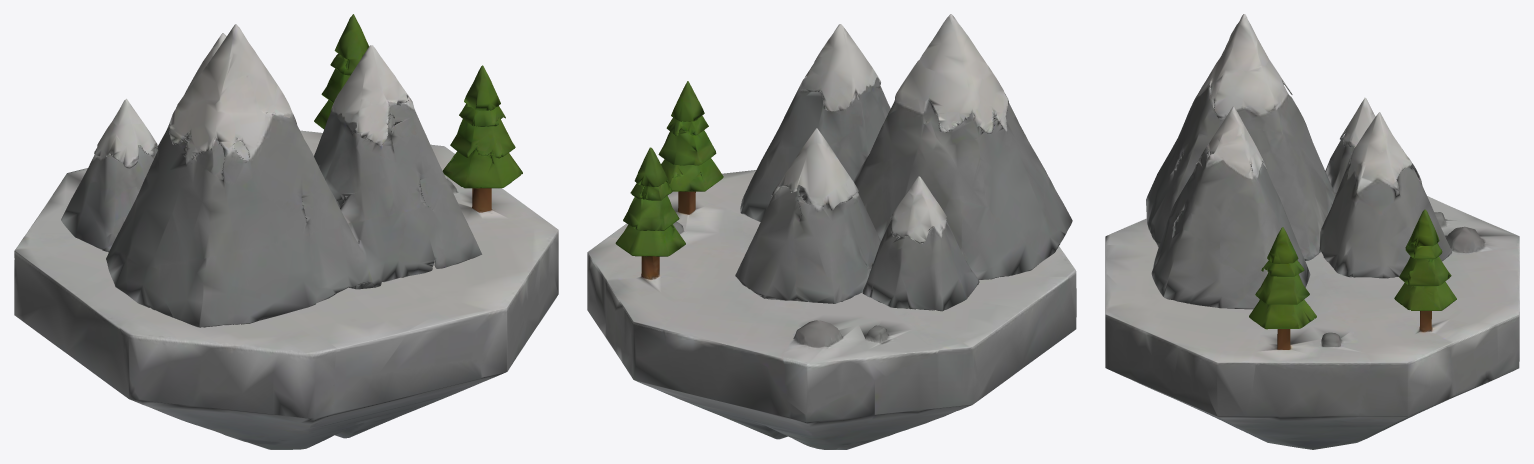
File: forest.glb
3 views of the same model, side by side, from view 1: azimuth 30°, elevation 25°; view 2: azimuth 150°, elevation 25°; view 3: azimuth 270°, elevation 25° (orthographic). The views are drawn at different scales.
Parts seen in each view (by area): view 1: tripo_node_10d7e2a9-2074-42d5-844d-18c641d1ceb8; view 2: tripo_node_10d7e2a9-2074-42d5-844d-18c641d1ceb8; view 3: tripo_node_10d7e2a9-2074-42d5-844d-18c641d1ceb8.
Part boxes in pixels (x1,y1,x2,y2): tripo_node_10d7e2a9-2074-42d5-844d-18c641d1ceb8: (14, 14, 558, 449); tripo_node_10d7e2a9-2074-42d5-844d-18c641d1ceb8: (587, 14, 1076, 449); tripo_node_10d7e2a9-2074-42d5-844d-18c641d1ceb8: (1105, 14, 1519, 449).
Size of the model in its own units: 0.9999 by 0.993 by 0.9994.
Materials: 1 (1 with a texture image).
